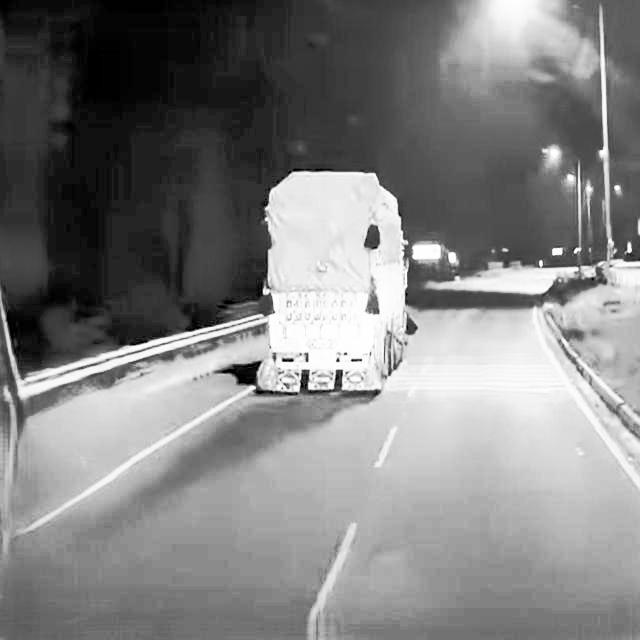Truck: (254, 169, 411, 396)
